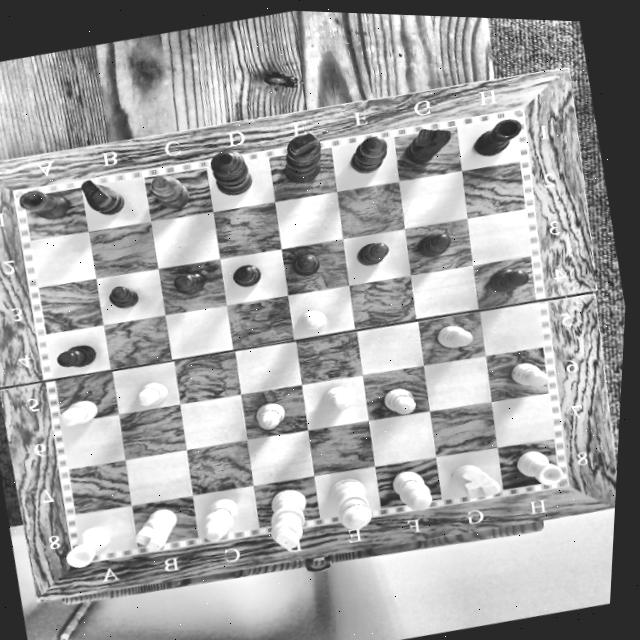black-bishop: (336, 120, 401, 185), (135, 156, 199, 219)
black-king: (268, 117, 338, 191)
black-knight: (393, 110, 462, 175), (70, 168, 132, 227)
black-pawn: (95, 271, 156, 322), (341, 230, 406, 277), (48, 331, 109, 381), (475, 255, 538, 303), (281, 238, 340, 289), (223, 251, 276, 299), (163, 258, 217, 305), (407, 223, 461, 269)
black-queen: (200, 134, 263, 208)
black-rook: (458, 104, 531, 166), (9, 173, 76, 230)
white-bishop: (384, 457, 445, 522), (189, 488, 249, 549)
white-king: (257, 476, 326, 560)
white-knight: (119, 497, 193, 559), (441, 448, 511, 510)
white-pawn: (43, 378, 113, 439), (496, 346, 557, 399), (288, 291, 349, 341), (123, 365, 183, 415), (244, 385, 302, 436), (375, 373, 429, 420), (424, 312, 480, 357), (312, 375, 368, 419)
white-queen: (317, 463, 389, 538)
white-rook: (51, 515, 122, 577), (503, 432, 569, 492)
